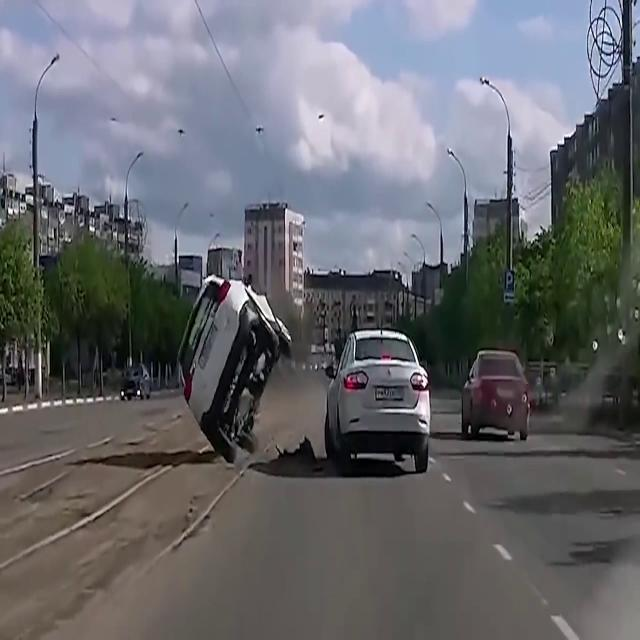accident: (175, 274, 433, 476)
non-accident: (324, 331, 532, 472)
